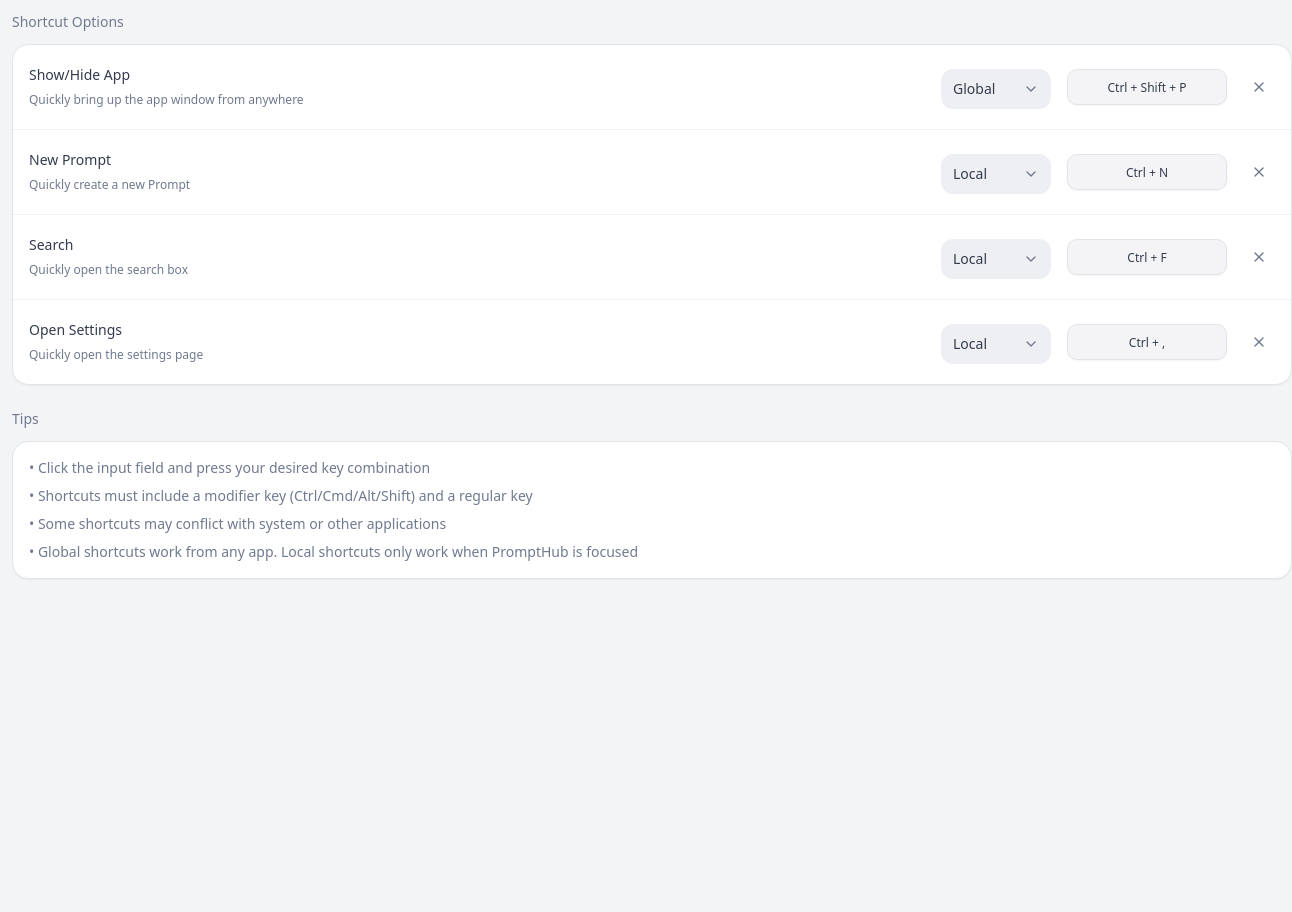
Test case: ShortcutsSettings › does not persist a shortcut that conflicts with another action
Click the field showing "Ctrl + N" at [1147, 172], box [1067,154,1227,190]
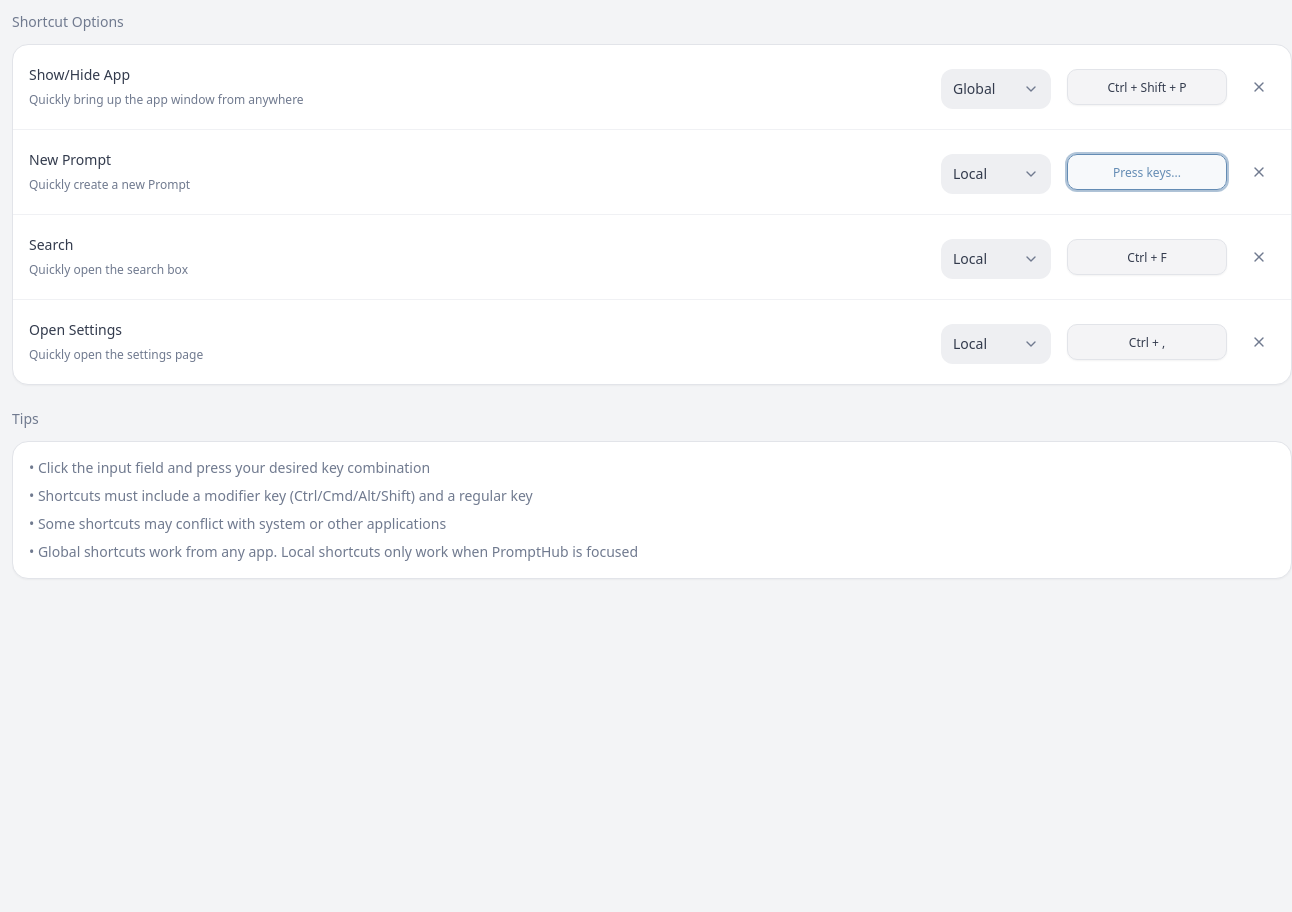
Type keys "{Control>}f{/Control}"
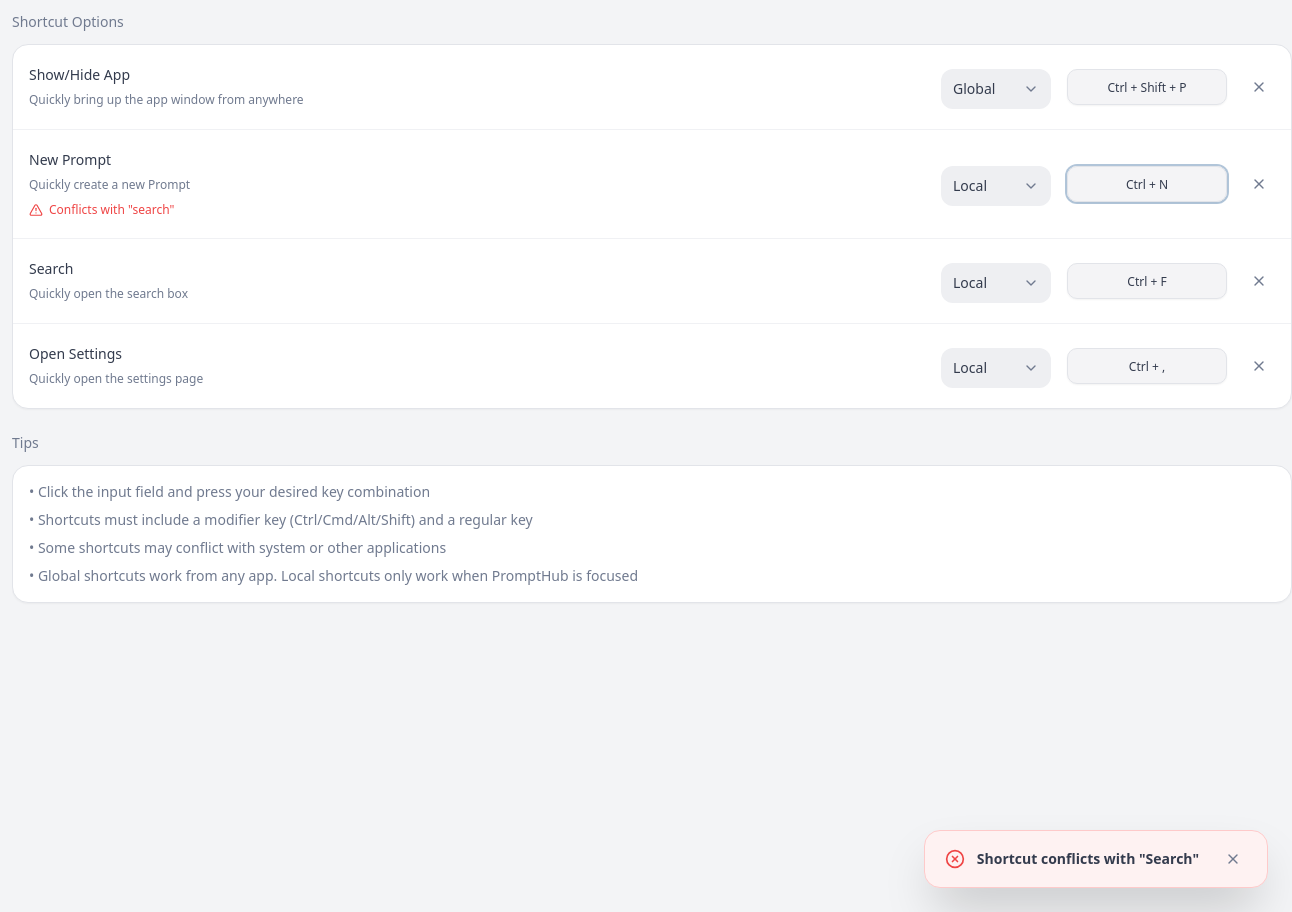
Now the text "Shortcut conflicts with \"Search\"" is shown, box [977,849,1199,869]
